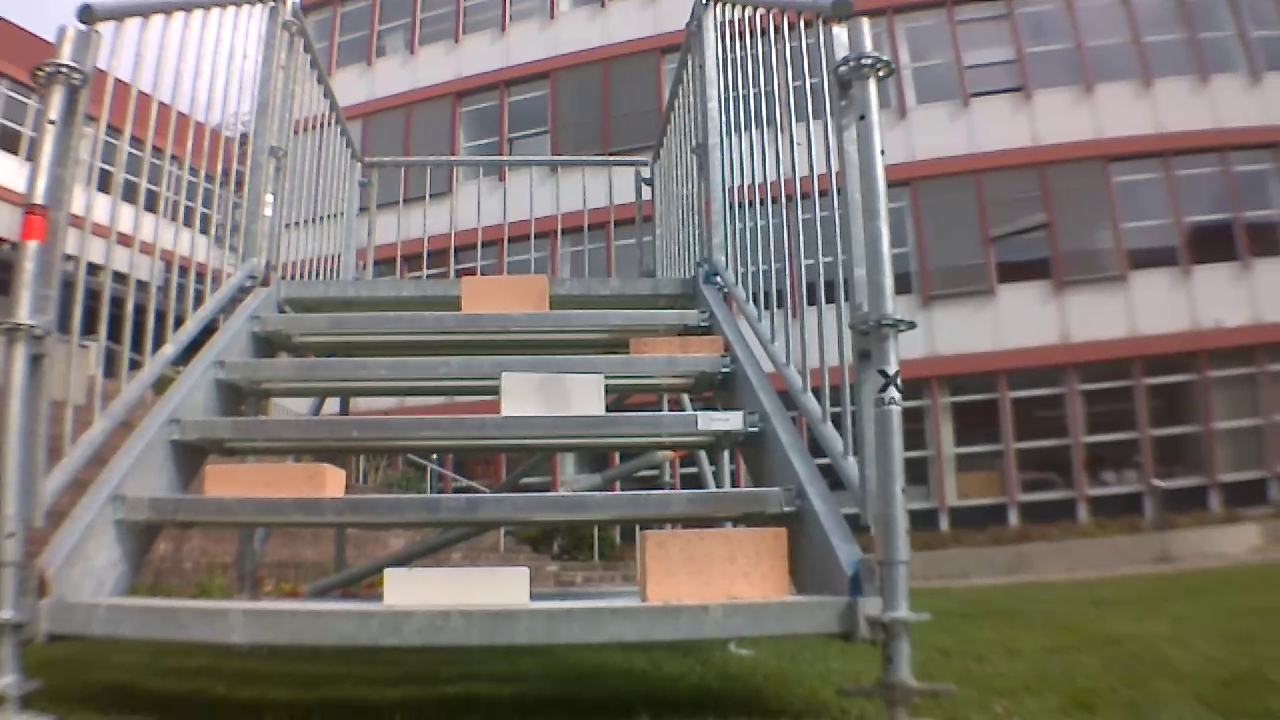brick: (638, 529, 786, 601), (384, 567, 528, 605), (207, 463, 344, 496), (500, 372, 604, 414), (461, 274, 546, 311), (629, 336, 722, 355)
edge: (52, 598, 849, 643), (113, 487, 799, 518), (169, 410, 766, 438), (215, 355, 735, 379), (249, 310, 709, 330), (282, 277, 695, 296)
stairs: (7, 2, 944, 713)
steps: (48, 270, 858, 648)
